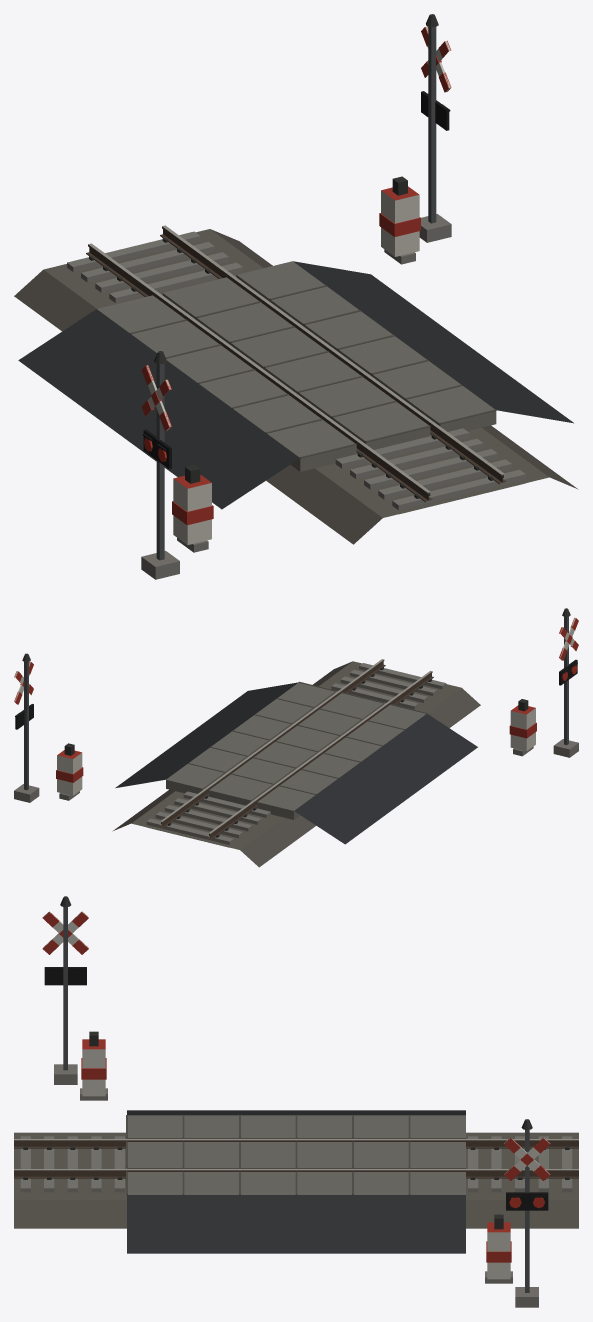
Rendered from przejazd-kat-a.glb.
The picture shows the model from 3 angles, top to bottom: view 1: azimuth 30°, elevation 25°; view 2: azimuth 150°, elevation 25°; view 3: azimuth 270°, elevation 25°; orthographic projection. The views are drawn at different scales.
Parts seen in each view (by area): view 1: przejazd-kat-a; view 2: przejazd-kat-a; view 3: przejazd-kat-a.
Part boxes in pixels (left/top/right/bottom): przejazd-kat-a: left=14, top=14, right=578, bottom=579; przejazd-kat-a: left=14, top=608, right=578, bottom=867; przejazd-kat-a: left=14, top=896, right=578, bottom=1307.
Bounding box in the file's own units: 11.7 × 4.28 × 12.
